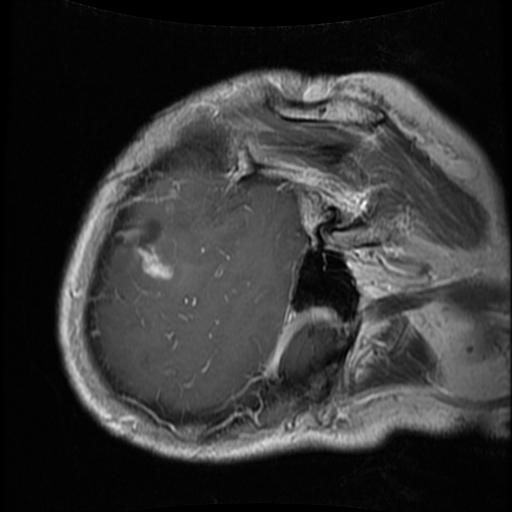glioma: (134, 223, 174, 281)
